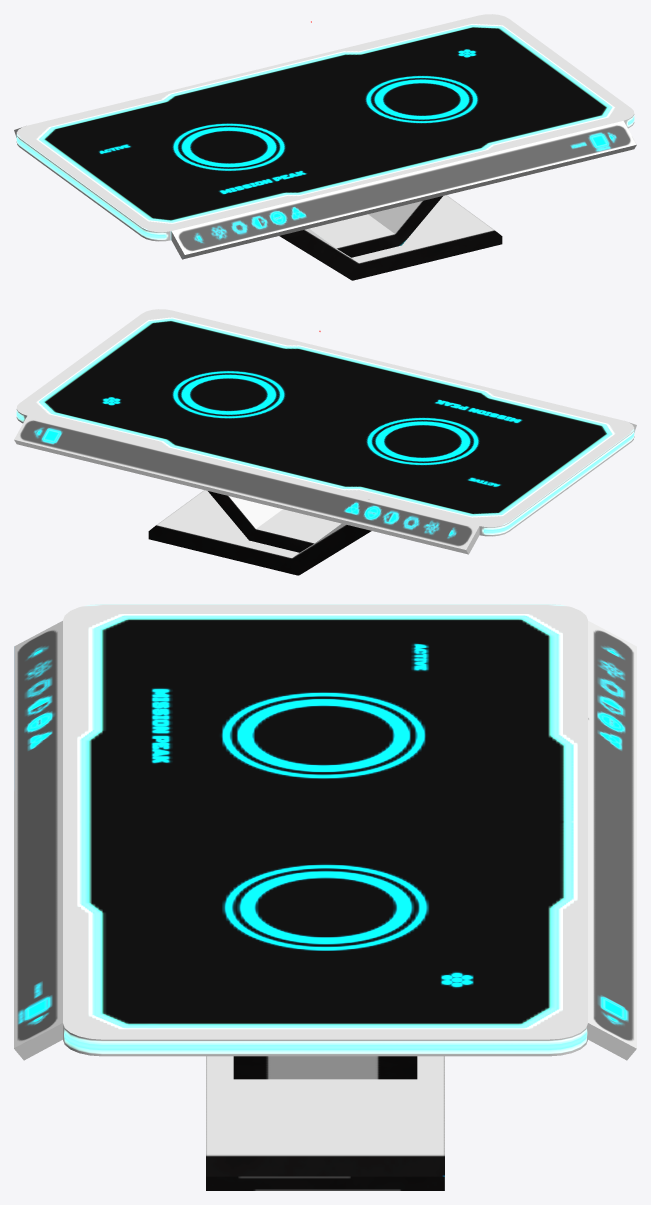
The model's file is hologram-table.glb.
3 renders of one model, top to bottom at view 1: azimuth 30°, elevation 25°; view 2: azimuth 150°, elevation 25°; view 3: azimuth 270°, elevation 25°, orthographic. The views are drawn at different scales.
Visible parts, largest first — view 1: polySurface1, pPlane7, pPlane8; view 2: polySurface1, pPlane7, pPlane8; view 3: polySurface1, pPlane7, pPlane8.
Part boxes in pixels (x1,y1,x2,y2): polySurface1: (14, 14, 636, 259); pPlane7: (279, 195, 502, 280); pPlane8: (309, 196, 442, 257); polySurface1: (14, 309, 636, 554); pPlane7: (148, 490, 371, 575); pPlane8: (208, 491, 341, 552); polySurface1: (14, 604, 636, 1060); pPlane7: (206, 1056, 444, 1190); pPlane8: (233, 1056, 417, 1079).
Size of the model in its own units: 0.1555 by 0.0695 by 0.094.
1 material, 1 textured.
